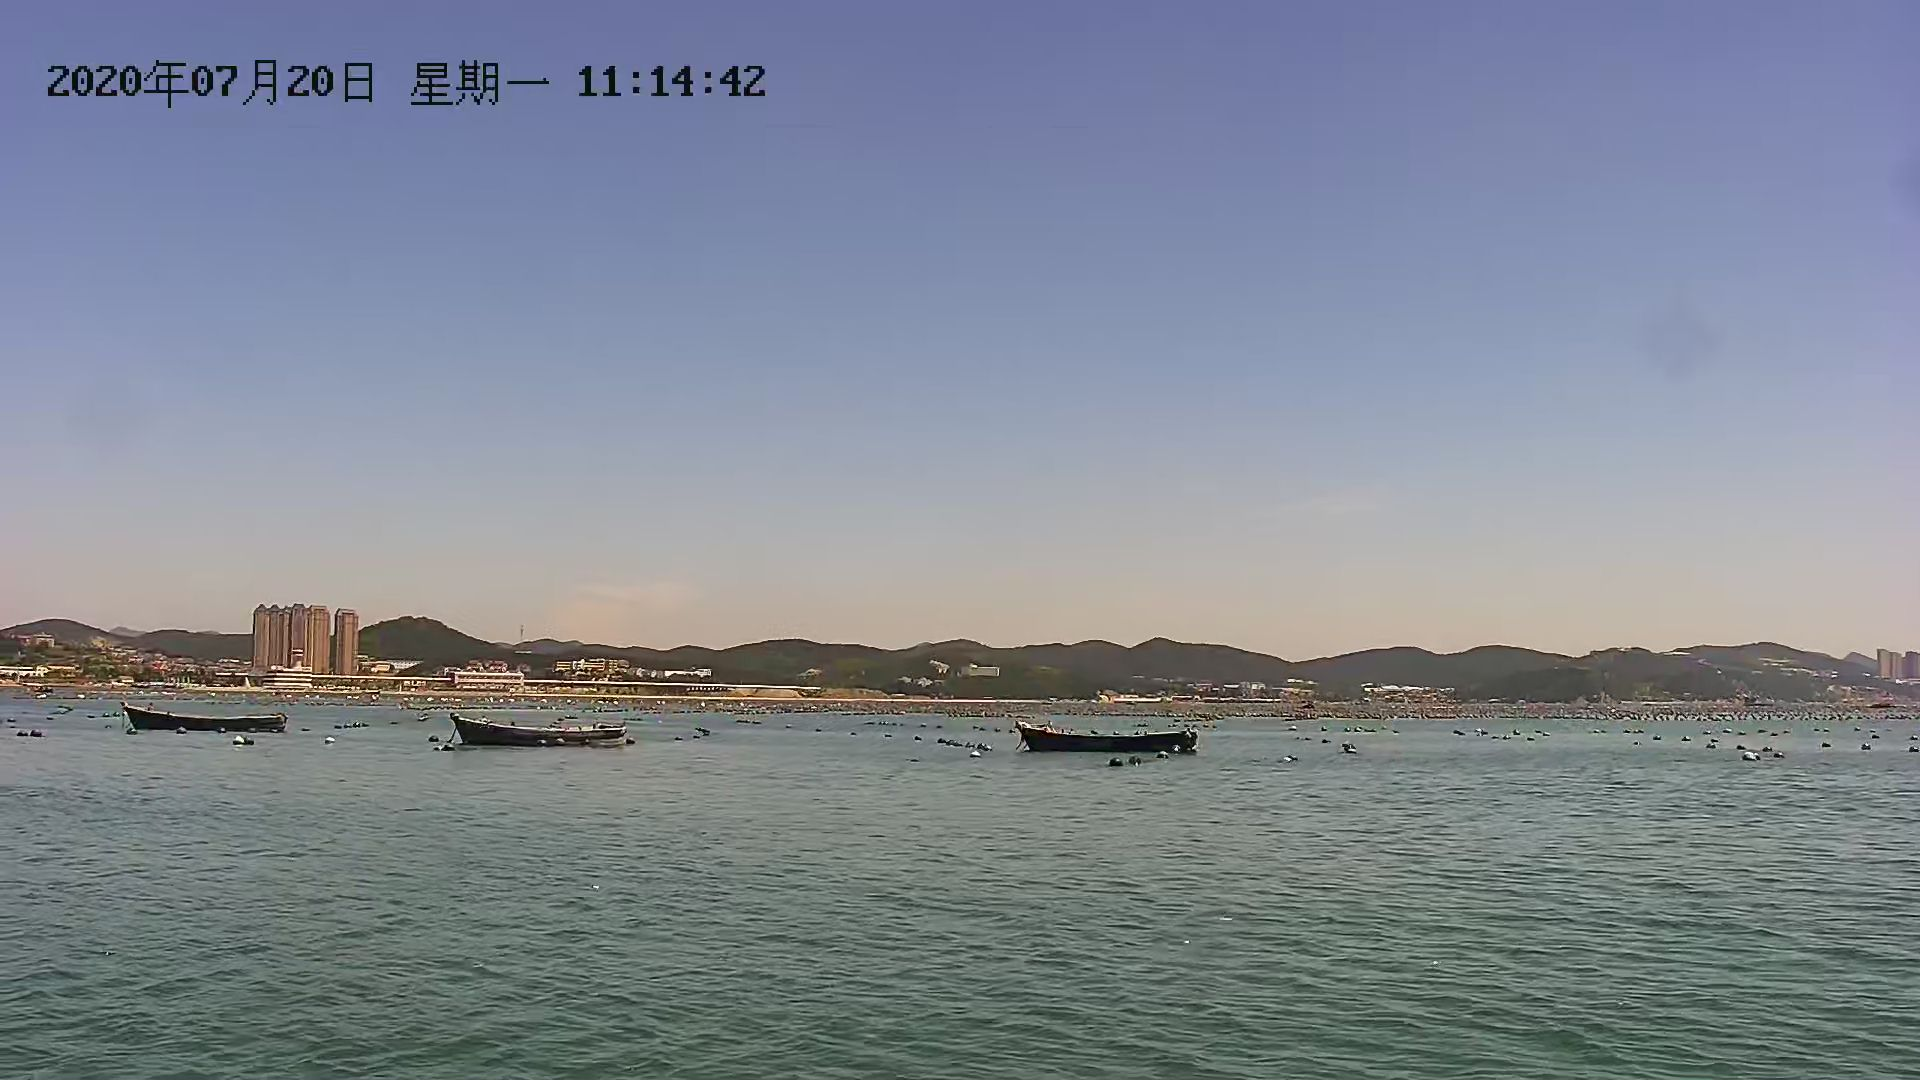boat: (1004, 719, 1215, 762), (108, 699, 299, 735), (448, 716, 637, 745)
